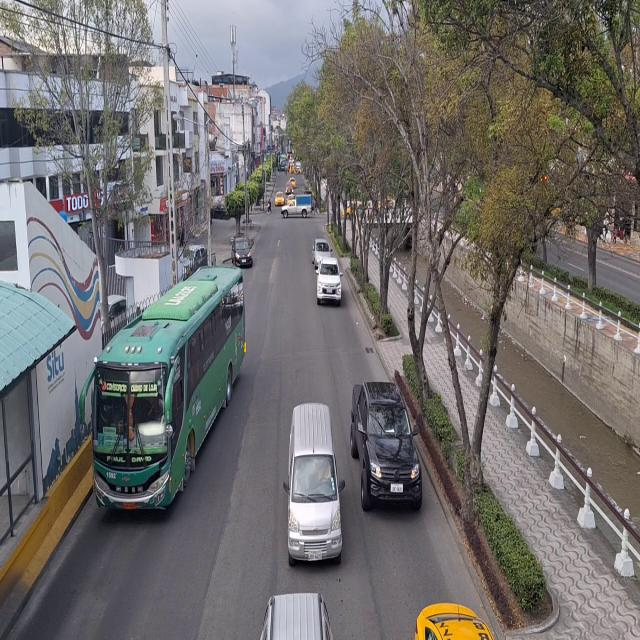BUS: (91, 317, 201, 521)
CMT: (349, 378, 422, 514), (281, 198, 312, 218)
